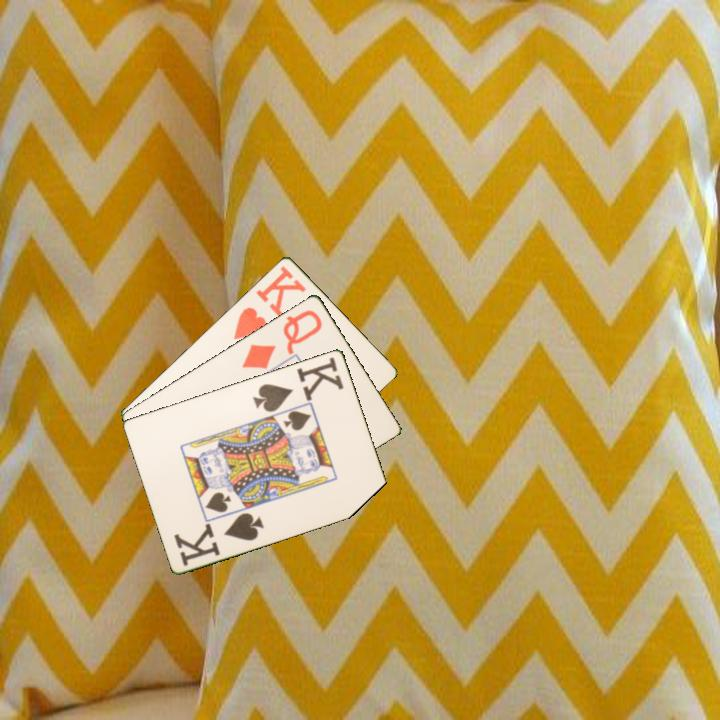Kh: (230, 262, 309, 342)
Ks: (249, 353, 347, 415), (170, 509, 267, 569)
Qd: (238, 306, 325, 372)
